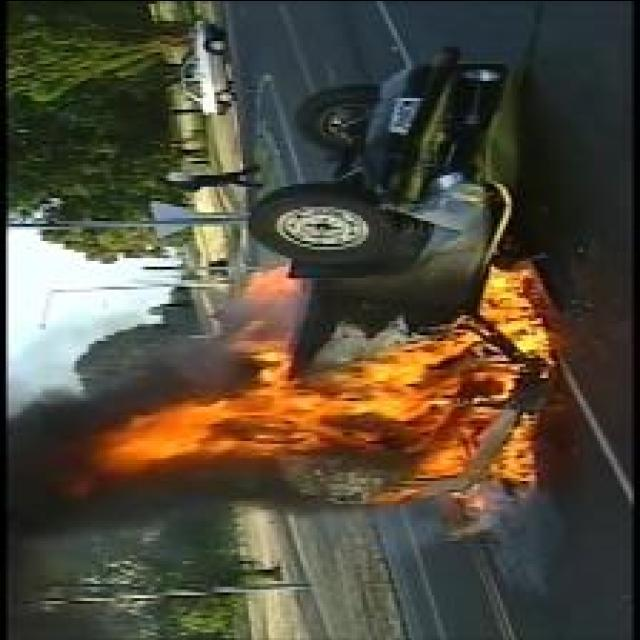Fire: (72, 261, 560, 510), (244, 262, 304, 298)
